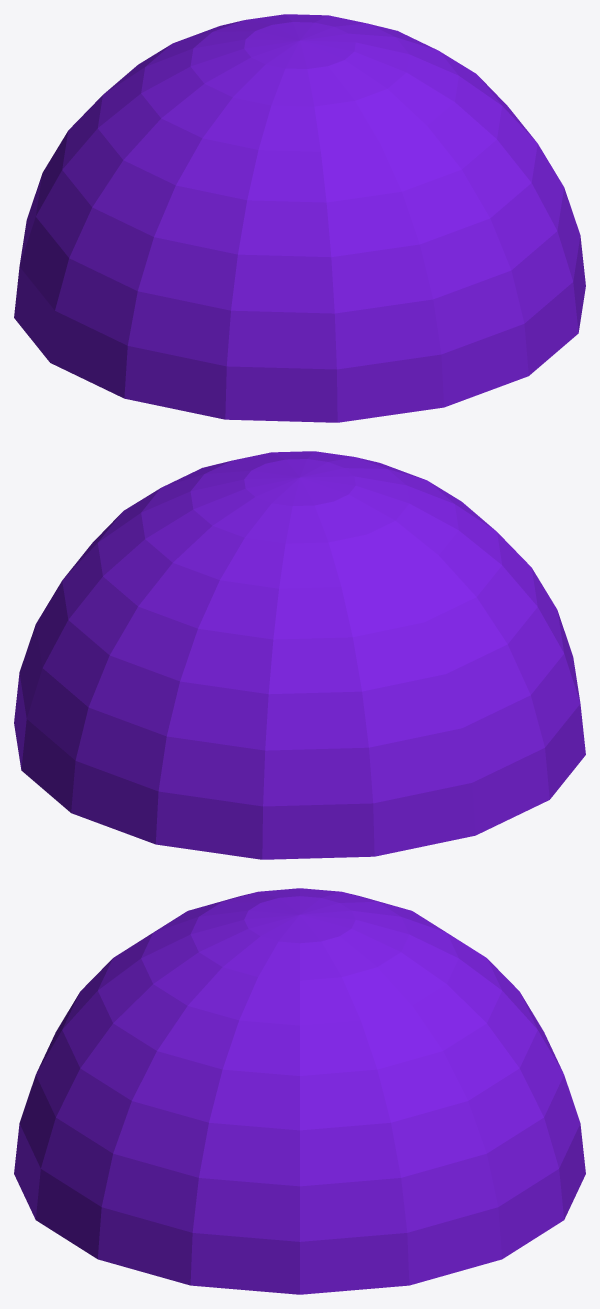
File: DomoB.fbx
The picture shows the model from 3 angles, top to bottom: view 1: azimuth 30°, elevation 25°; view 2: azimuth 150°, elevation 25°; view 3: azimuth 270°, elevation 25°; orthographic projection.
Visible parts, largest first — view 1: Sphere; view 2: Sphere; view 3: Sphere.
Part boxes in pixels (x1=…): Sphere: x1=14, y1=14, x2=585, y2=422; Sphere: x1=14, y1=451, x2=585, y2=859; Sphere: x1=14, y1=888, x2=585, y2=1294.
Size of the model in its own units: 411 by 205 by 411.
